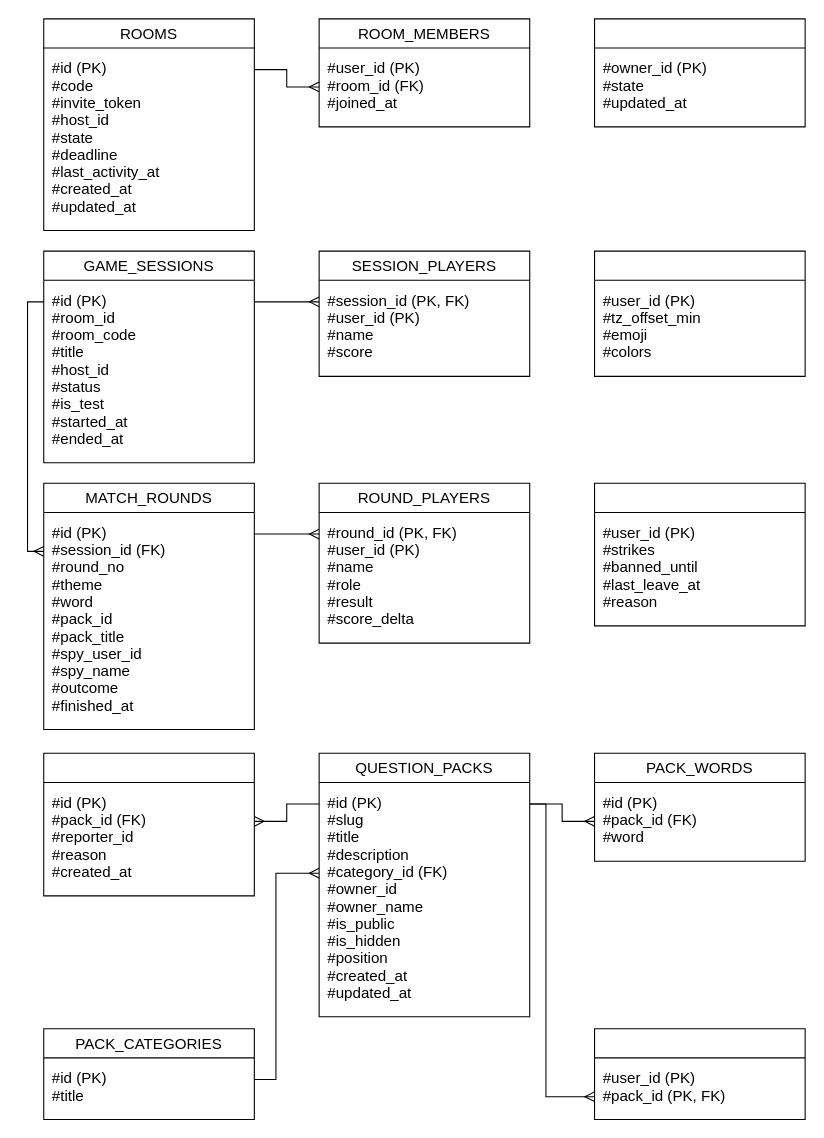
Image size: 824x1138. Some labels were removed from this diagram. The shapes that lost their labels are listed below. From the top down, each one's box as (x1, y1, x2, y2) in pixels, then its label:
(593, 18, 805, 127): LOCAL_GAMES
(593, 250, 805, 376): USER_SETTINGS
(593, 482, 805, 626): USER_PENALTIES
(43, 752, 254, 896): PACK_REPORTS
(593, 1028, 805, 1119): USER_FAVORITES
